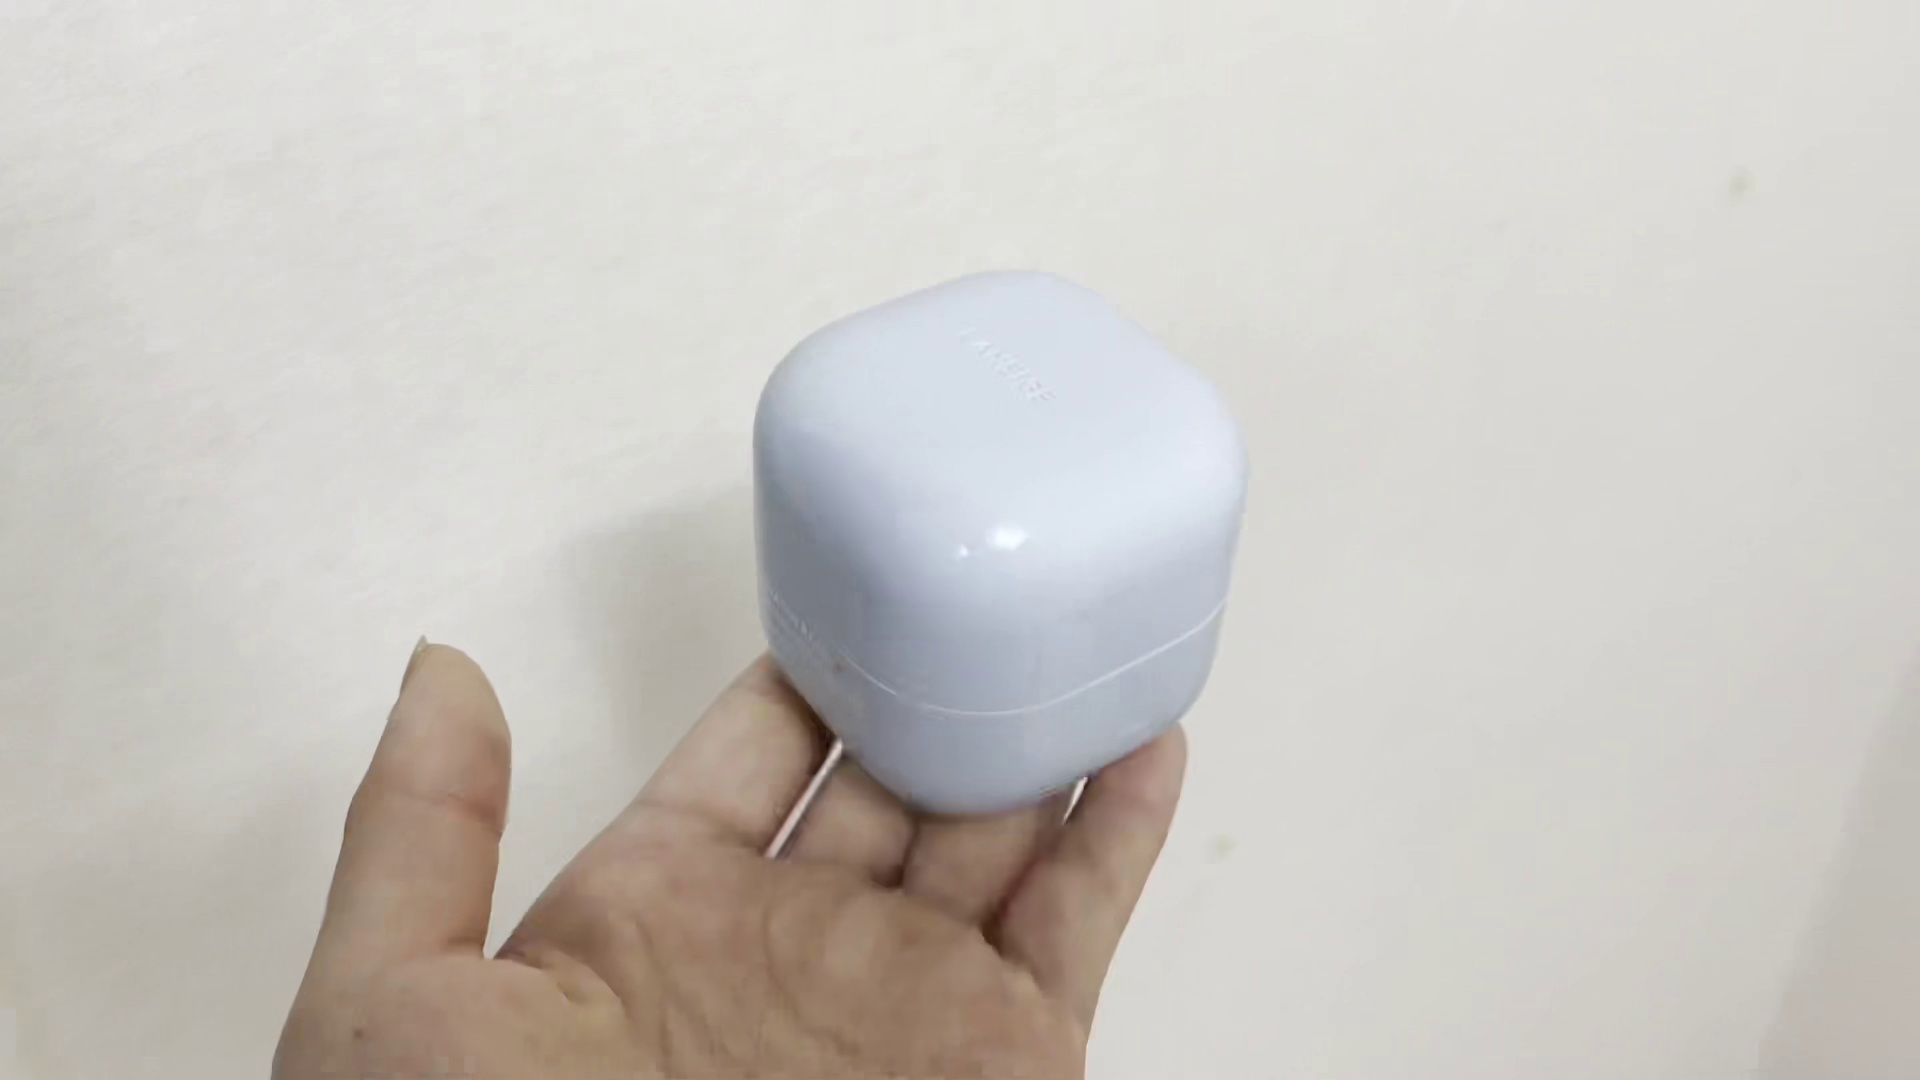cream: (750, 268, 1247, 808)
